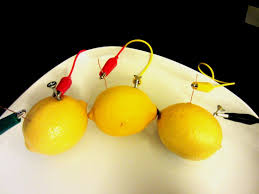Lemon: (82, 84, 175, 149), (160, 93, 228, 164), (22, 84, 86, 147)
